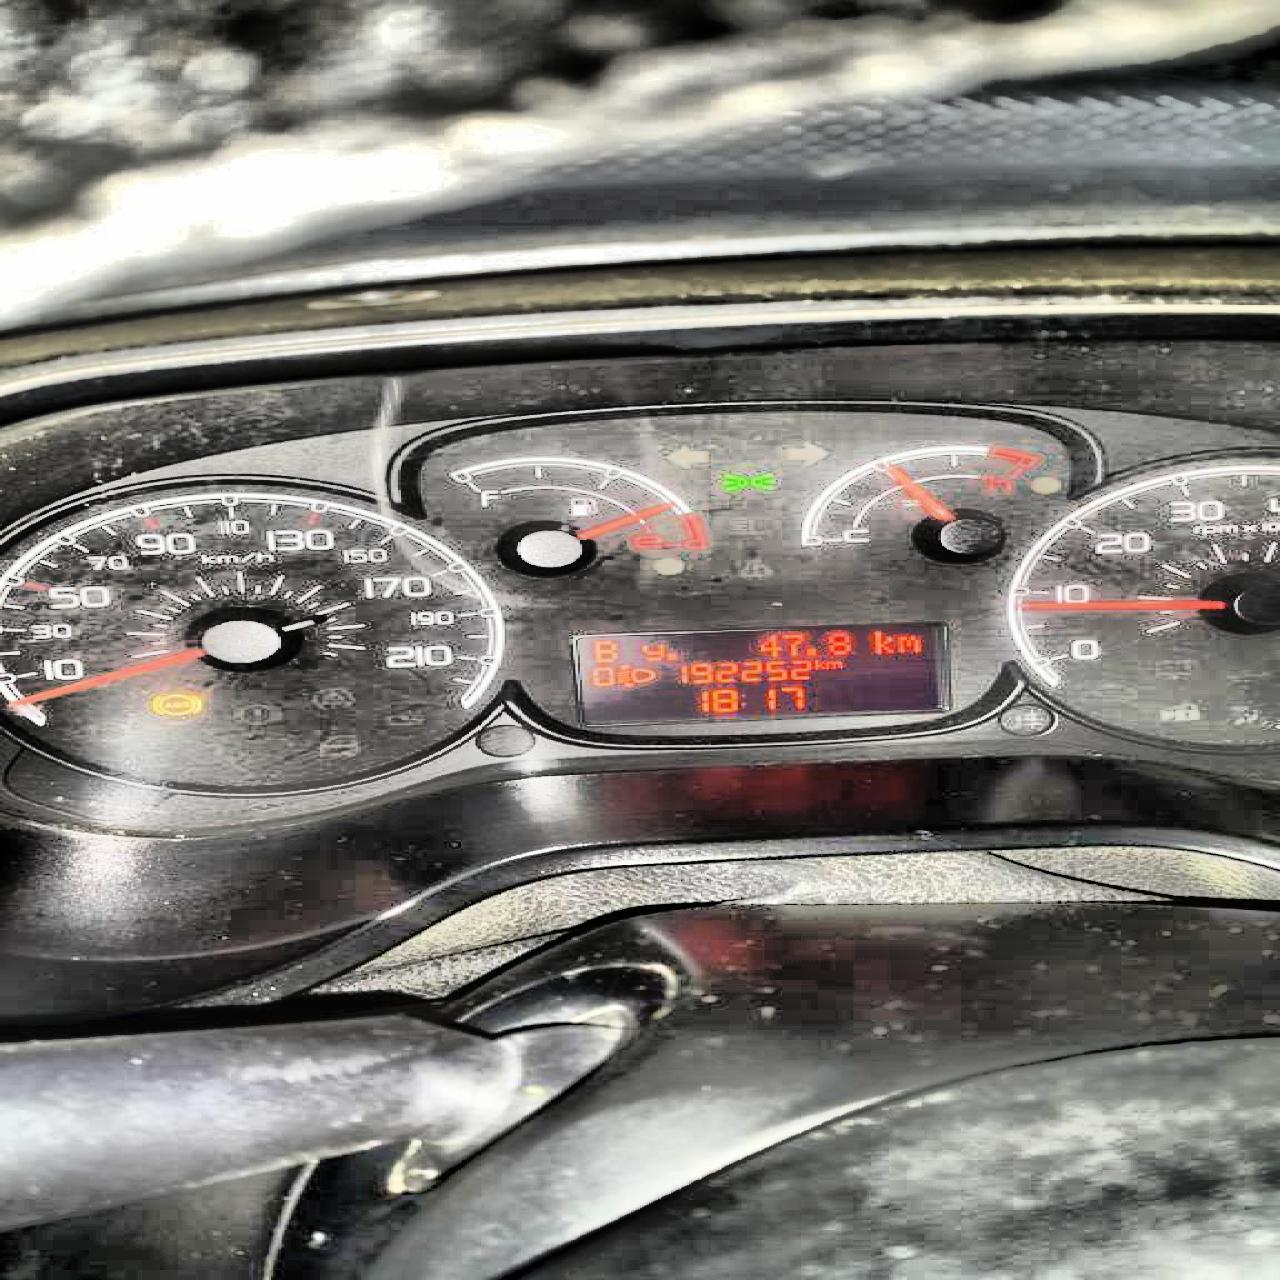-: (799, 645, 818, 656), (662, 651, 678, 660)
0: (591, 665, 613, 686)
1: (762, 686, 776, 710), (697, 688, 709, 713), (675, 662, 687, 686)
2: (737, 660, 762, 681), (713, 660, 737, 681), (789, 659, 811, 679)
4: (756, 633, 781, 656)
5: (762, 660, 787, 680)
7: (779, 685, 804, 709), (779, 633, 804, 656)
8: (709, 688, 738, 712), (825, 629, 851, 655)
9: (689, 661, 712, 683)
X: (591, 639, 620, 662), (869, 628, 893, 653), (893, 633, 920, 653), (638, 641, 662, 660), (824, 660, 843, 669), (738, 692, 749, 707), (811, 658, 822, 670)
odometer: (568, 621, 960, 727)
